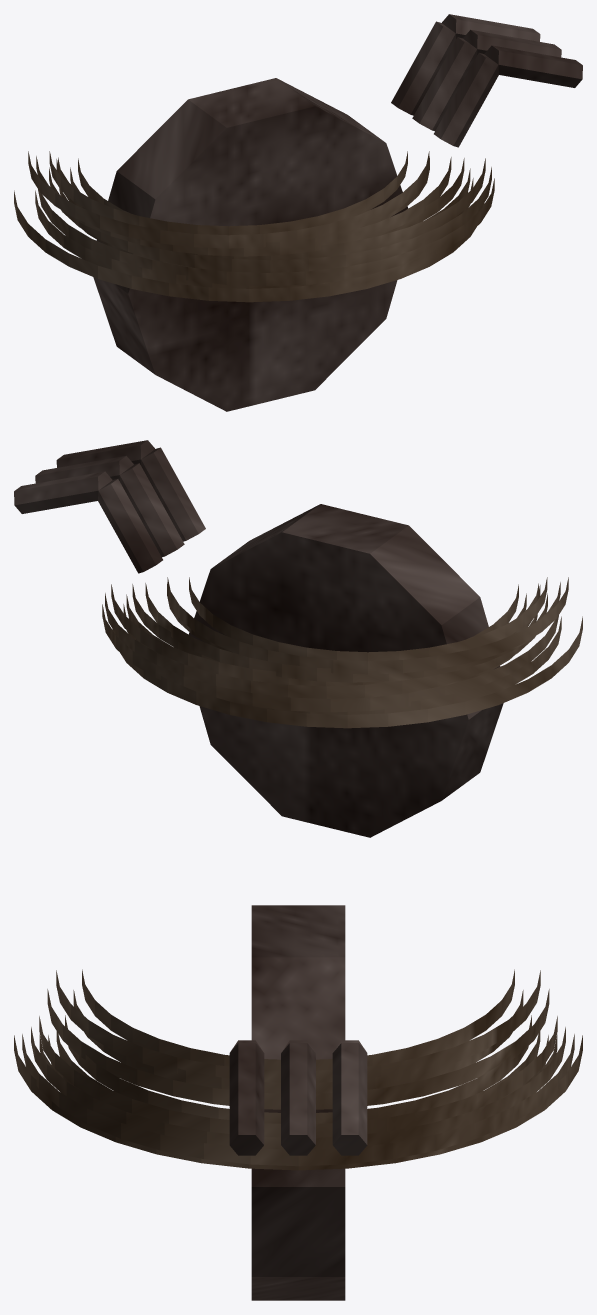
The model's file is 0951_rope_coil_01.glb.
3 renders of one model, top to bottom at view 1: azimuth 30°, elevation 25°; view 2: azimuth 150°, elevation 25°; view 3: azimuth 270°, elevation 25°, orthographic. The views are drawn at different scales.
Parts seen in each view (by area): view 1: wood_dark, wood; view 2: wood_dark, wood; view 3: wood, wood_dark.
Part boxes in pixels (x1,y1,x2,y2): wood_dark: (93,14,582,411); wood: (14,151,494,302); wood_dark: (14,440,503,837); wood: (102,577,582,728); wood: (14,969,582,1170); wood_dark: (229,905,367,1300).
Bounding box in the file's own units: 1.52 × 0.8535 × 1.21.
Materials: 2 (2 with a texture image).
